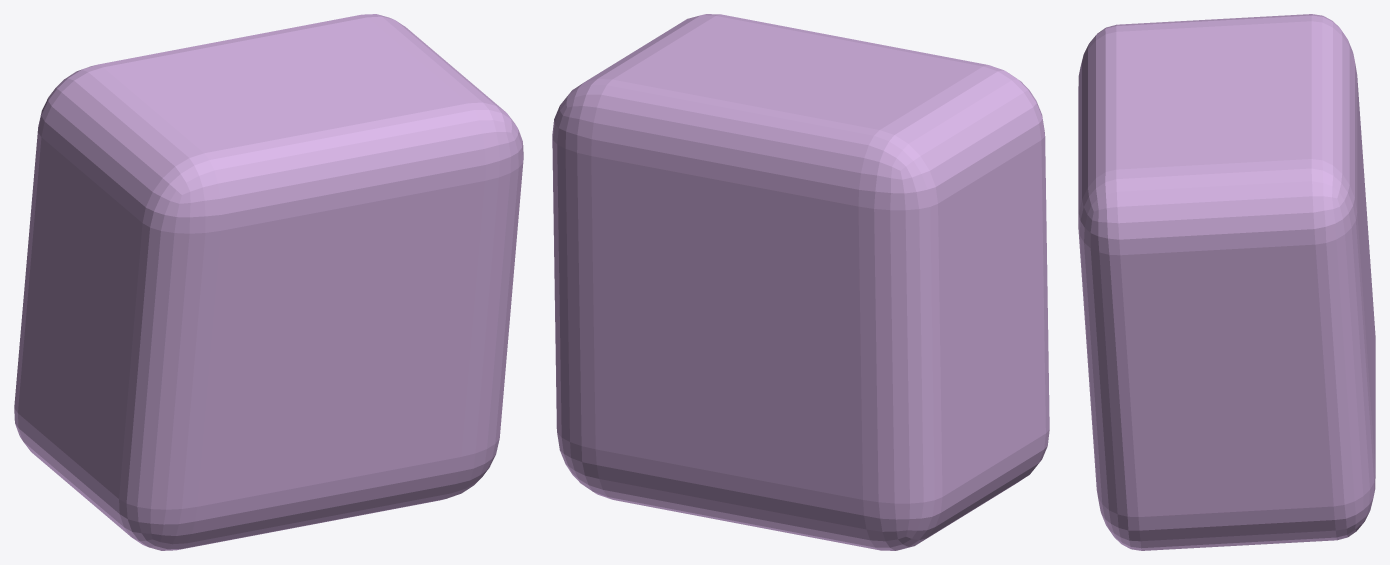
File: PortCubeblend.glb
The picture shows the model from 3 angles, left to right: view 1: azimuth 30°, elevation 25°; view 2: azimuth 150°, elevation 25°; view 3: azimuth 270°, elevation 25°; orthographic projection. The views are drawn at different scales.
Parts seen in each view (by area): view 1: RoundedSquare; view 2: RoundedSquare; view 3: RoundedSquare.
Part boxes in pixels (box(x1,y1,x2,y2)): RoundedSquare: box(14, 14, 523, 550); RoundedSquare: box(552, 14, 1049, 550); RoundedSquare: box(1078, 14, 1375, 550).
Bounding box in the file's own units: 1.62 × 1.68 × 1.11.
